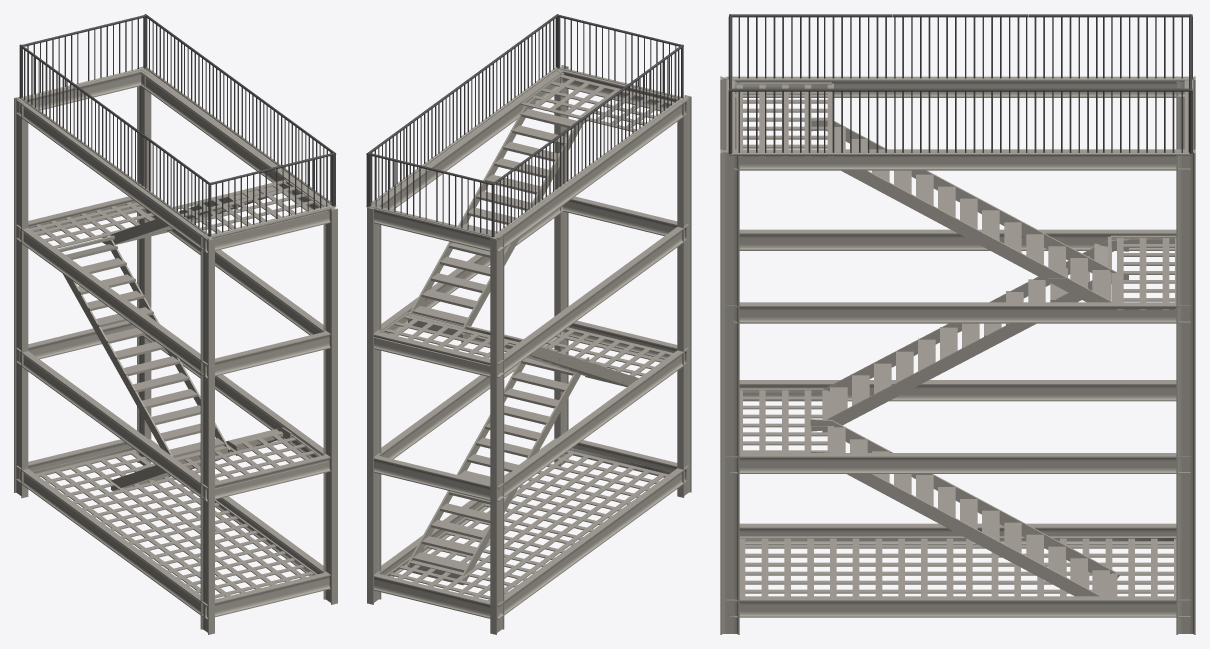
File: staircase_industrial.fbx
3 renders of one model, left to right at view 1: azimuth 30°, elevation 25°; view 2: azimuth 150°, elevation 25°; view 3: azimuth 270°, elevation 25°, orthographic. The views are drawn at different scales.
Parts seen in each view (by area): view 1: staircase_industrial; view 2: staircase_industrial; view 3: staircase_industrial.
Part boxes in pixels (x1=…): staircase_industrial: x1=14, y1=14, x2=337, y2=634; staircase_industrial: x1=366, y1=14, x2=691, y2=634; staircase_industrial: x1=720, y1=14, x2=1195, y2=634.
Bounding box in the file's own units: 156 × 509 × 401.
